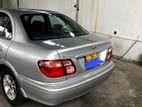car: (0, 8, 114, 107)
